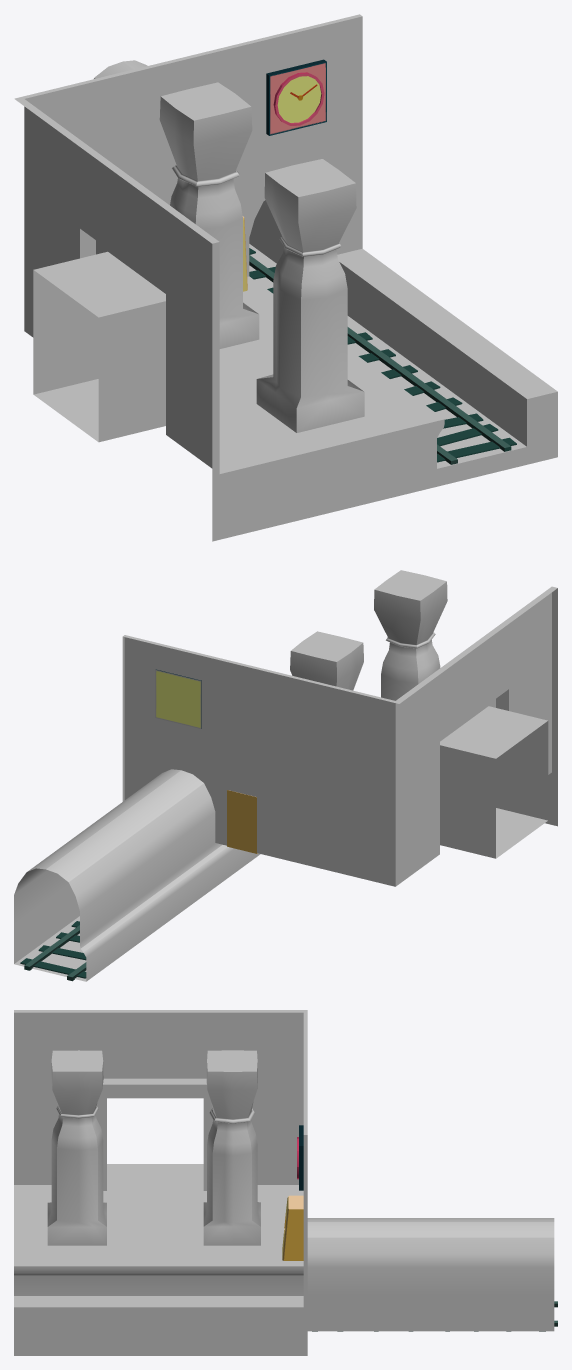
Rendered from station 2.fbx.
The picture shows the model from 3 angles, top to bottom: view 1: azimuth 30°, elevation 25°; view 2: azimuth 150°, elevation 25°; view 3: azimuth 270°, elevation 25°; orthographic projection. The views are drawn at different scales.
Visible parts, largest first — view 1: env_2, track_2, pCylinder7; view 2: env_2, pCylinder7, ticket_machine, track_2; view 3: env_2, ticket_machine.
Part boxes in pixels (x1=…): env_2: x1=14, y1=14, x2=557, y2=541; track_2: x1=249, y1=248, x2=516, y2=464; pCylinder7: x1=266, y1=59, x2=326, y2=135; env_2: x1=14, y1=570, x2=557, y2=981; pCylinder7: x1=155, y1=669, x2=201, y2=728; ticket_machine: x1=227, y1=790, x2=257, y2=853; track_2: x1=20, y1=921, x2=86, y2=981; env_2: x1=14, y1=1010, x2=554, y2=1355; ticket_machine: x1=282, y1=1195, x2=303, y2=1260.
Size of the model in its own units: 23.18 by 16.64 by 37.17.
